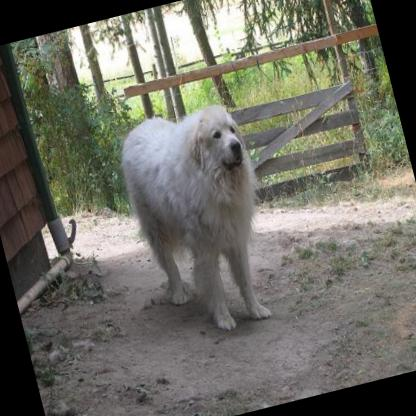Great_Pyrenees: (110, 95, 288, 344)
